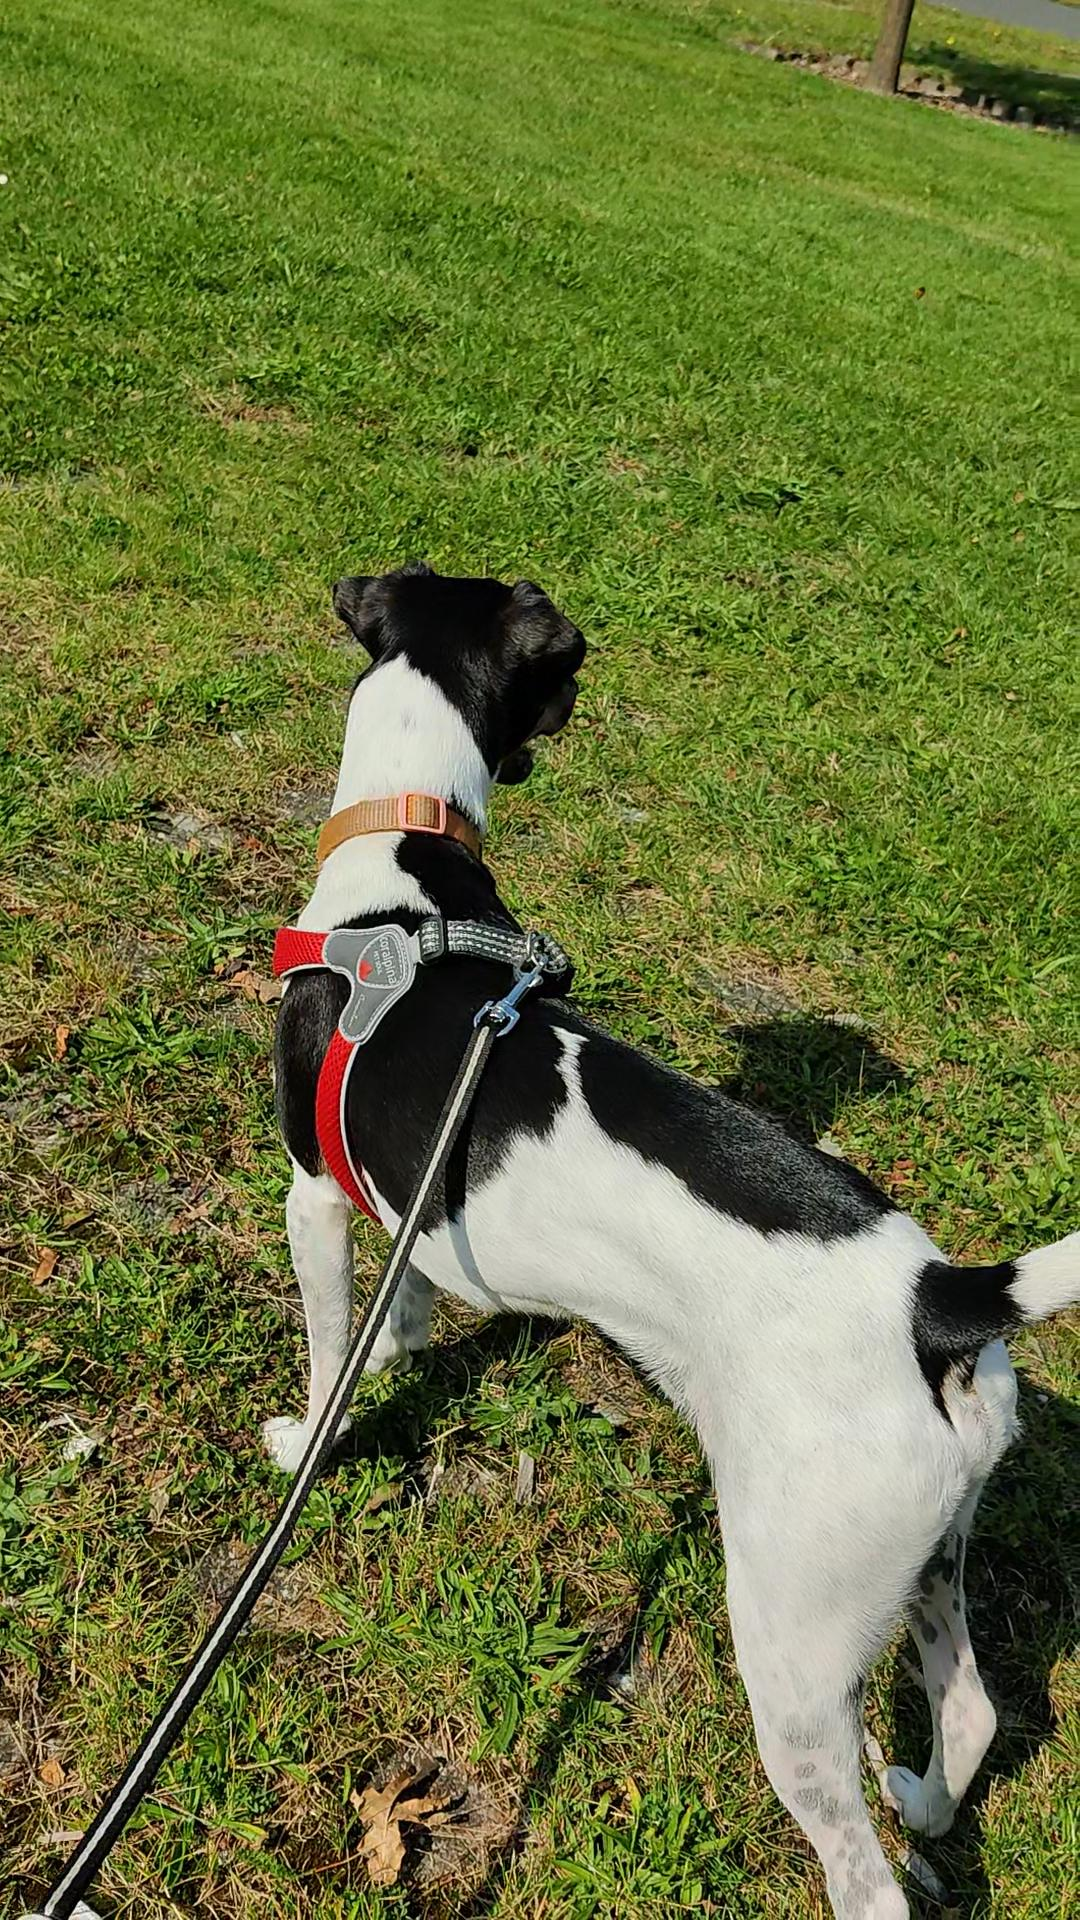Dog: (245, 551, 1079, 1919)
